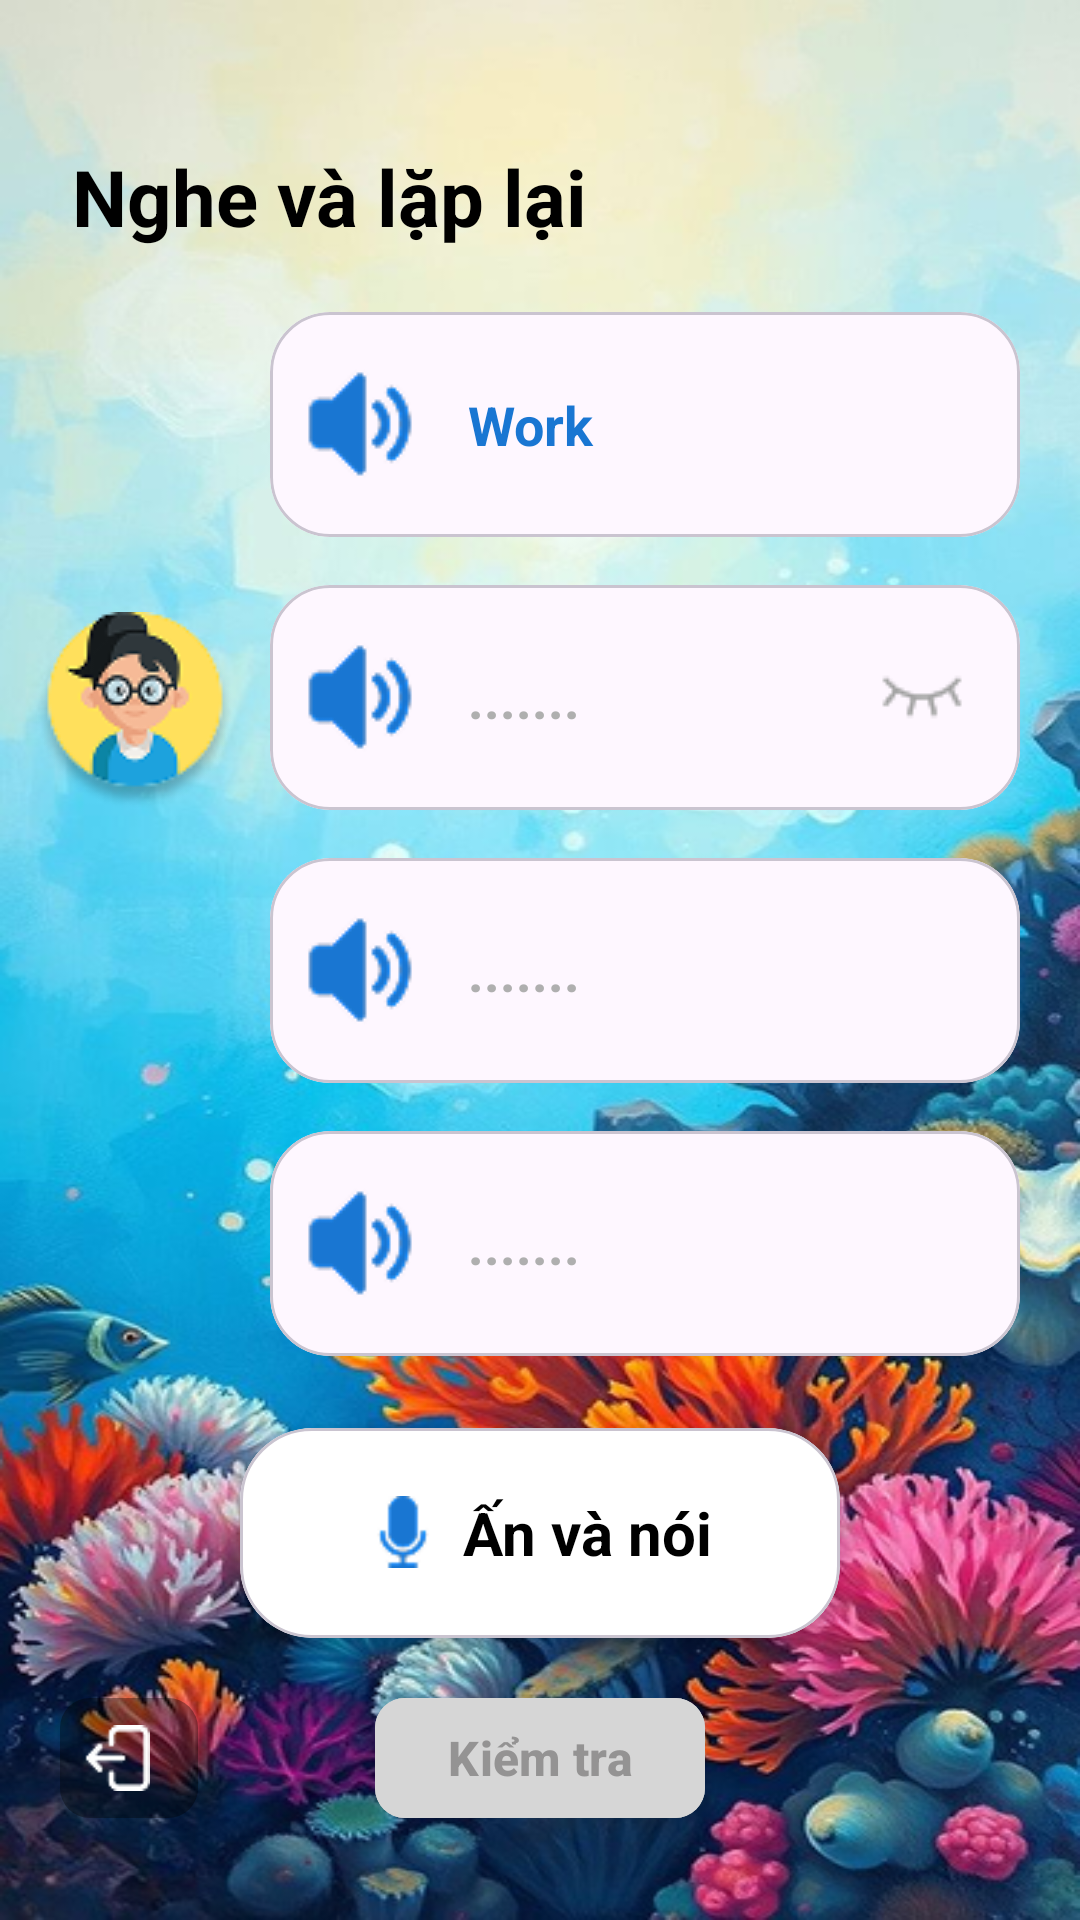

Icons on this 1080px x 1920px Android screen, each with the point to tap as point (x, y):
eye: point (922, 697)
girl: point (135, 711)
mic: point (403, 1532)
volume: point (360, 424), point (360, 697), point (360, 970), point (360, 1243)
